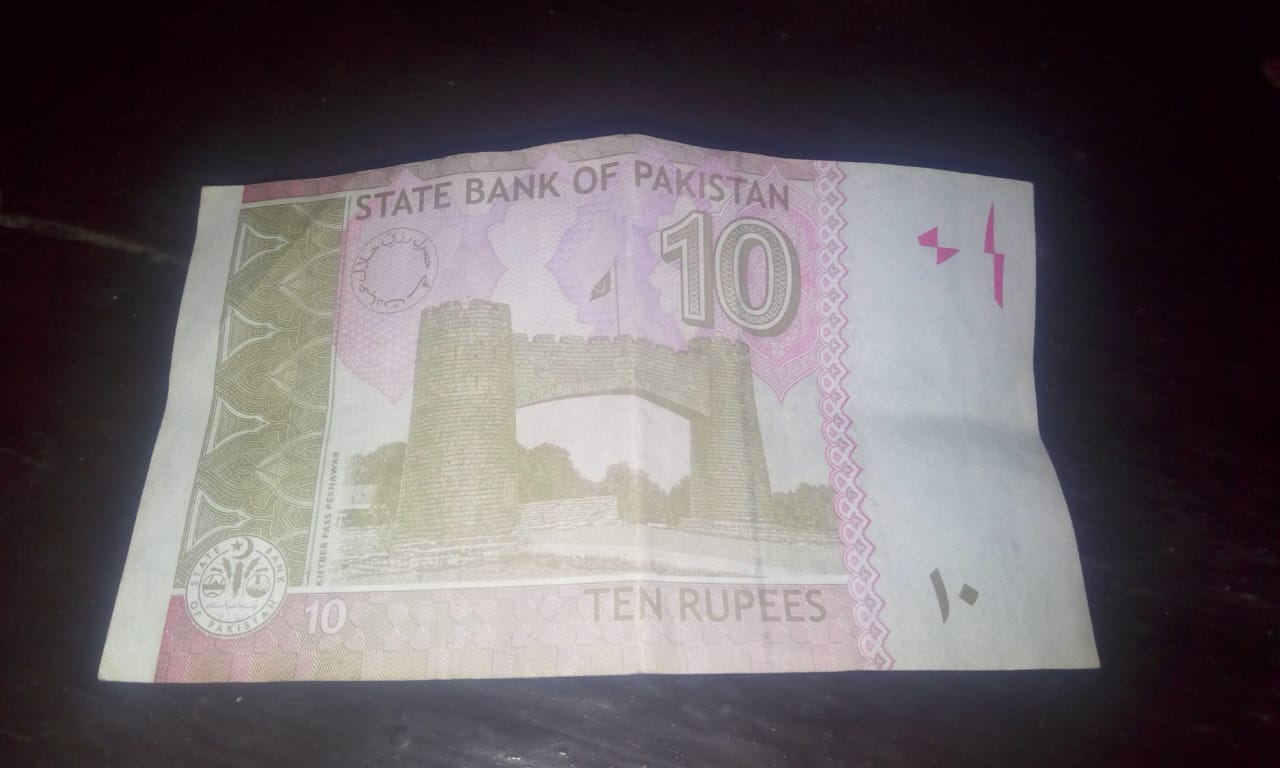10 rupee: (91, 122, 1152, 692)
